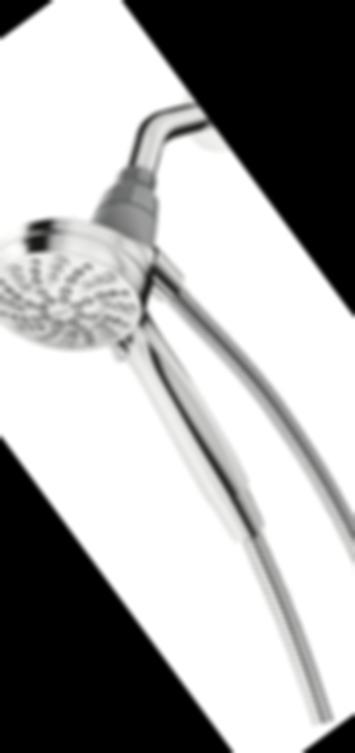Ducha: (0, 35, 355, 746)
